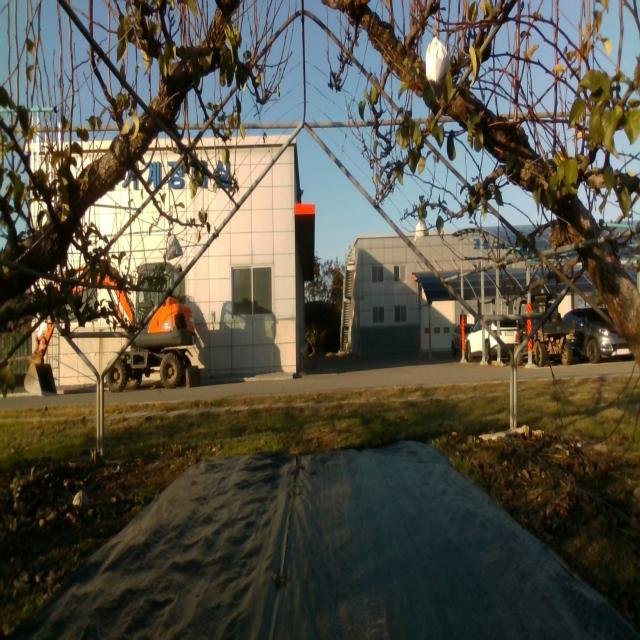pearbags: (424, 36, 451, 98), (165, 232, 182, 260), (414, 219, 428, 241)
